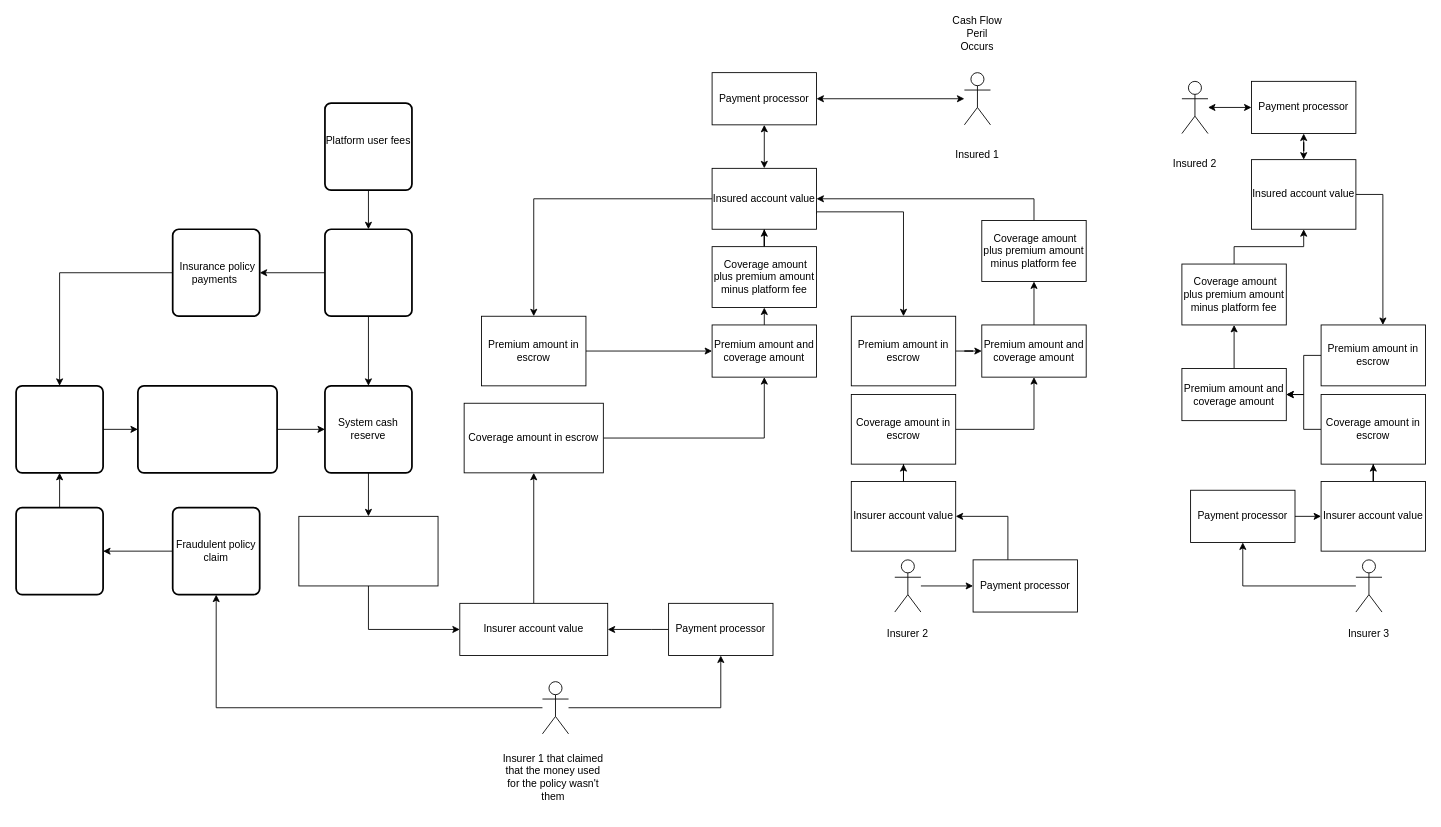
Image size: 1441x827. Some labels were removed from this diagram. The centre of each missing label's shape, as x and y in pixels:
"Claim generated by the system" goes at [59,550].
"Fraudulent amount for reimbursements from insurance" goes at [207,429].
"Fraudulent Insured coverage amount" goes at [368,550].
"Outside Insurance" goes at [59,429].
"System account value" goes at [368,272].
